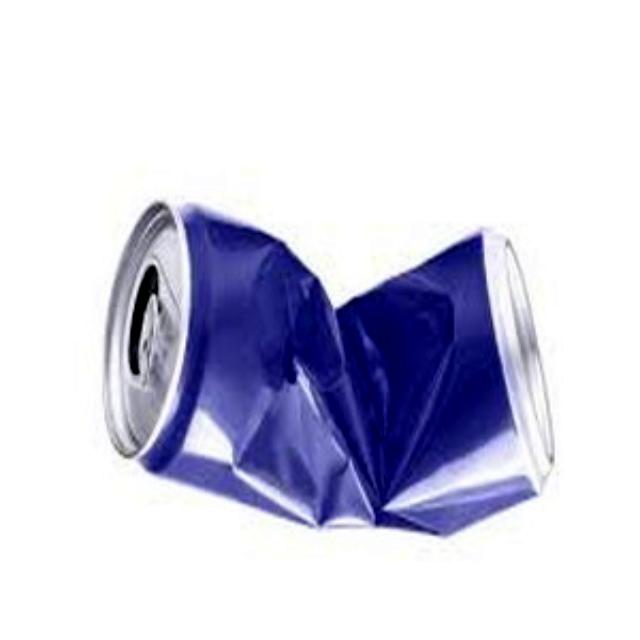Metal: (102, 192, 558, 540)
